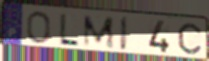4: (148, 19, 172, 54)
C: (176, 22, 203, 56)
I: (119, 15, 130, 53)
L: (57, 12, 81, 48)
M: (82, 15, 116, 50)
O: (26, 10, 53, 46)
